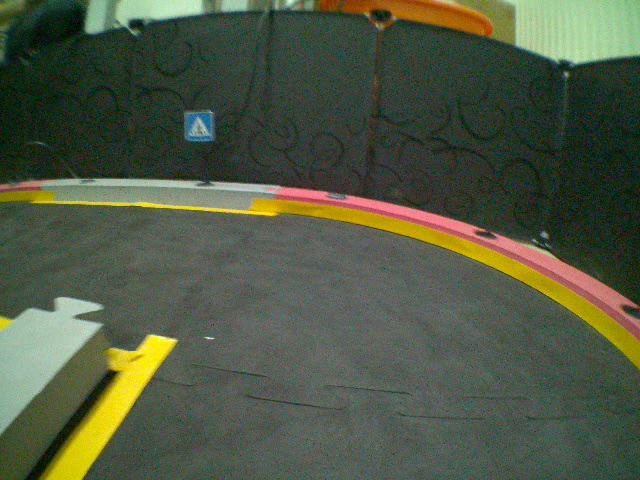crossing: (185, 109, 214, 144)
